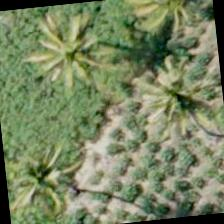Kelapa_Sawit: (124, 48, 224, 147), (13, 5, 112, 104), (2, 125, 92, 223), (124, 0, 218, 47)
